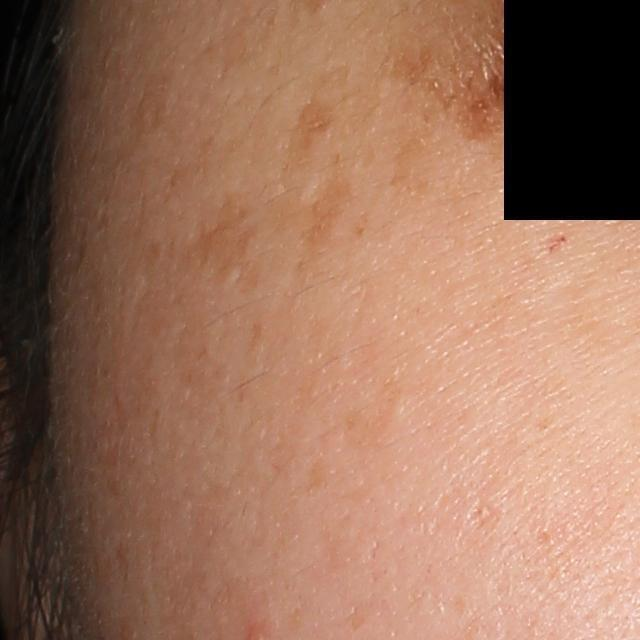melasma: (384, 23, 532, 148), (175, 192, 268, 298), (197, 6, 279, 84), (380, 128, 437, 206), (311, 165, 355, 258), (289, 91, 346, 162)
